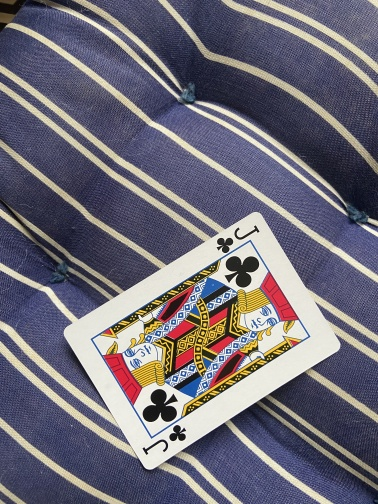jack: (61, 208, 342, 473)
